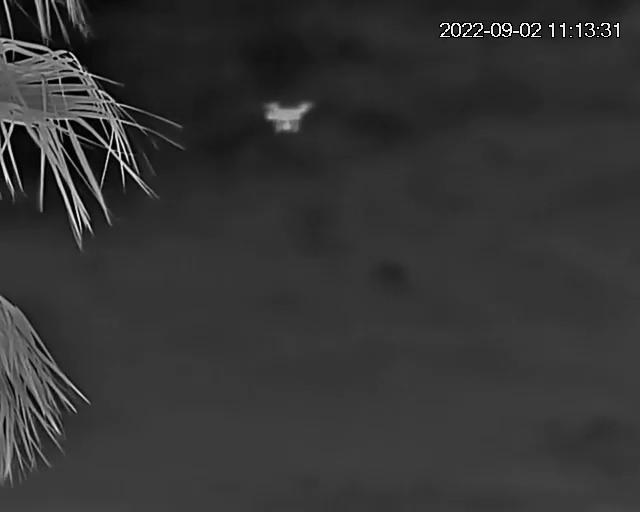DJI-Phantom: (259, 98, 321, 139)
